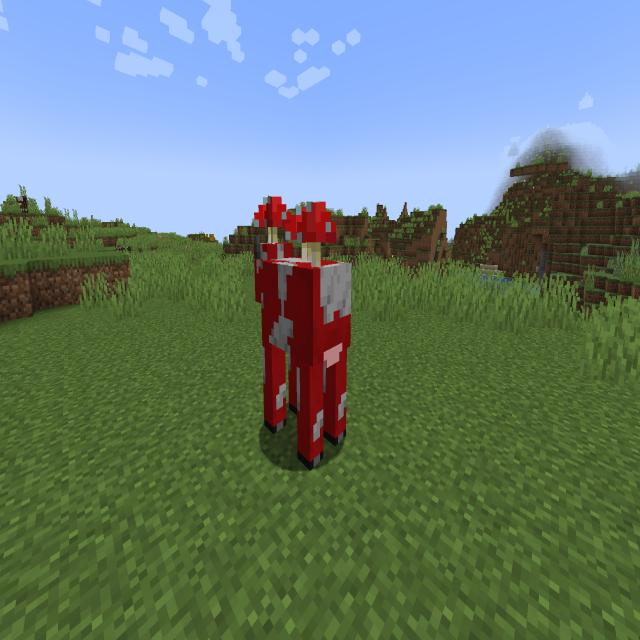Mooshroom: (246, 180, 364, 485)
